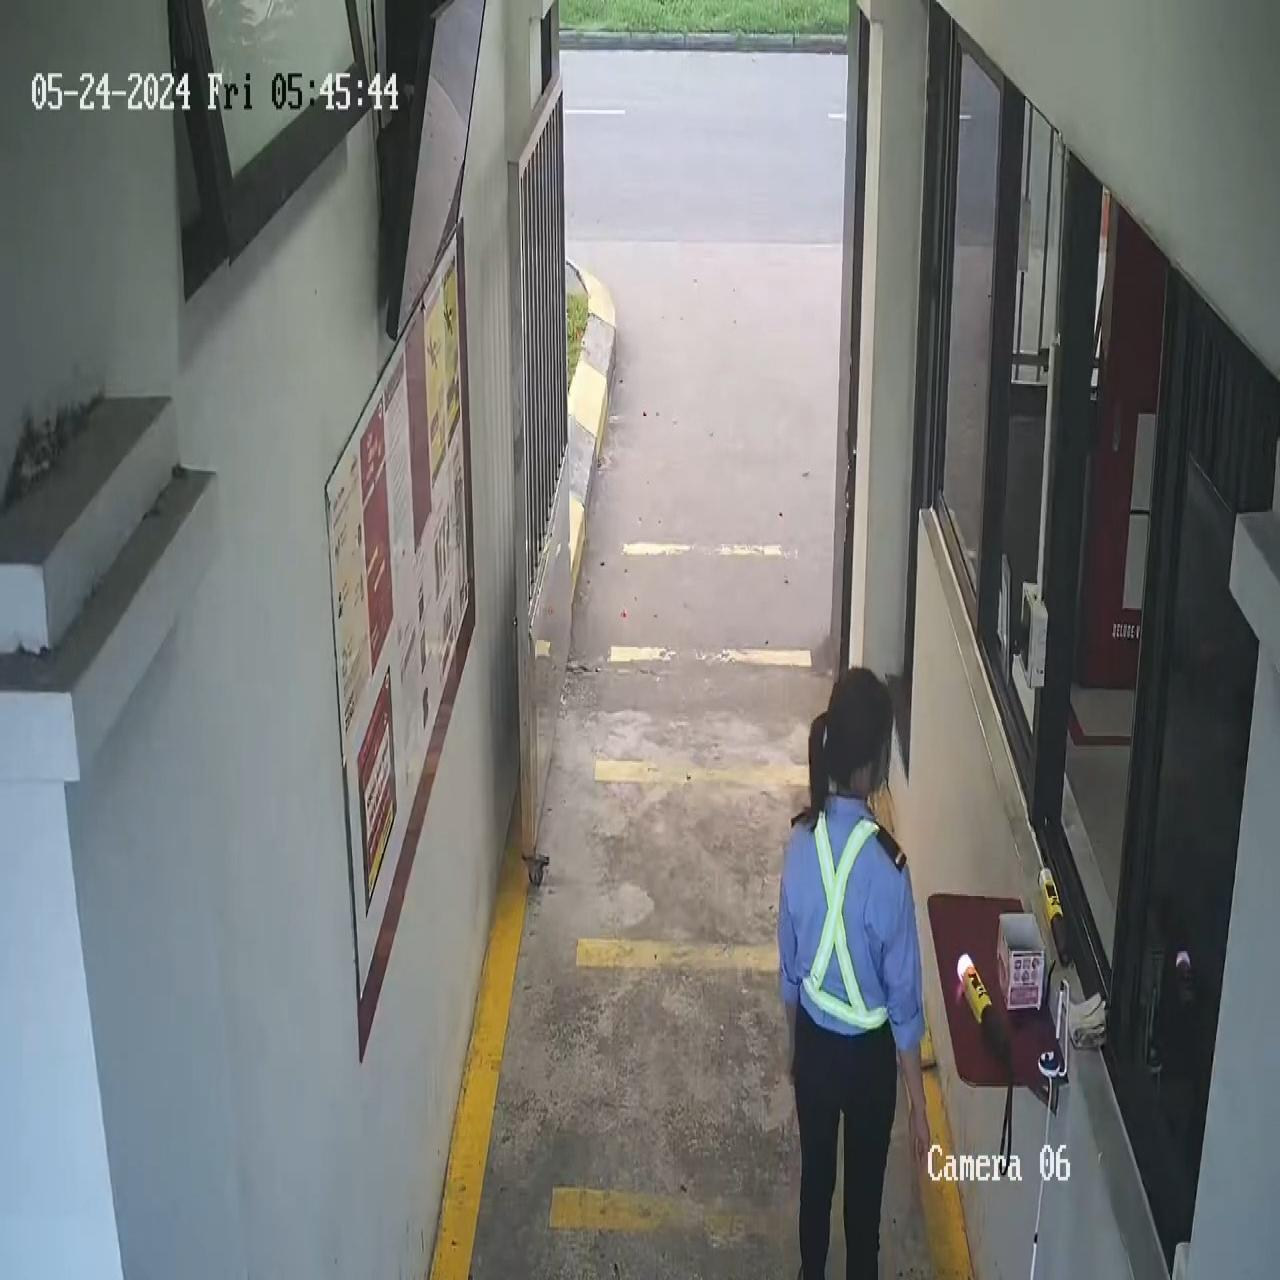breathalyzer: (952, 946, 1016, 1080), (1032, 859, 1081, 975)
guard: (775, 663, 931, 1276)
